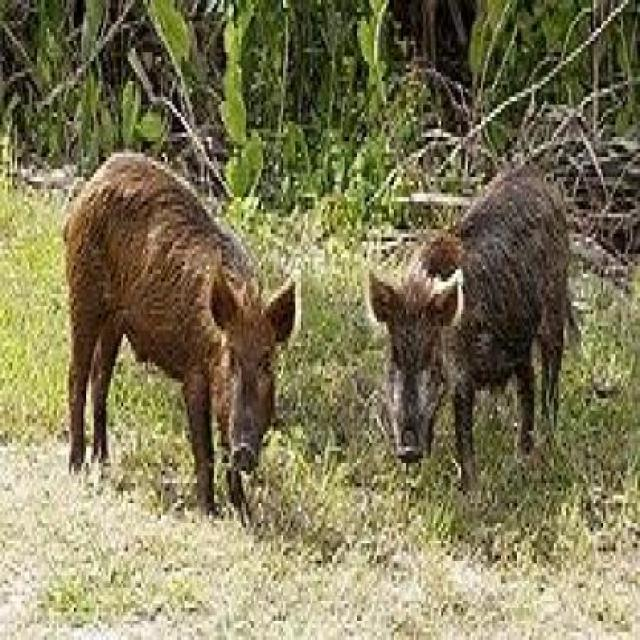wildboar: (57, 142, 312, 542), (356, 154, 589, 515)
